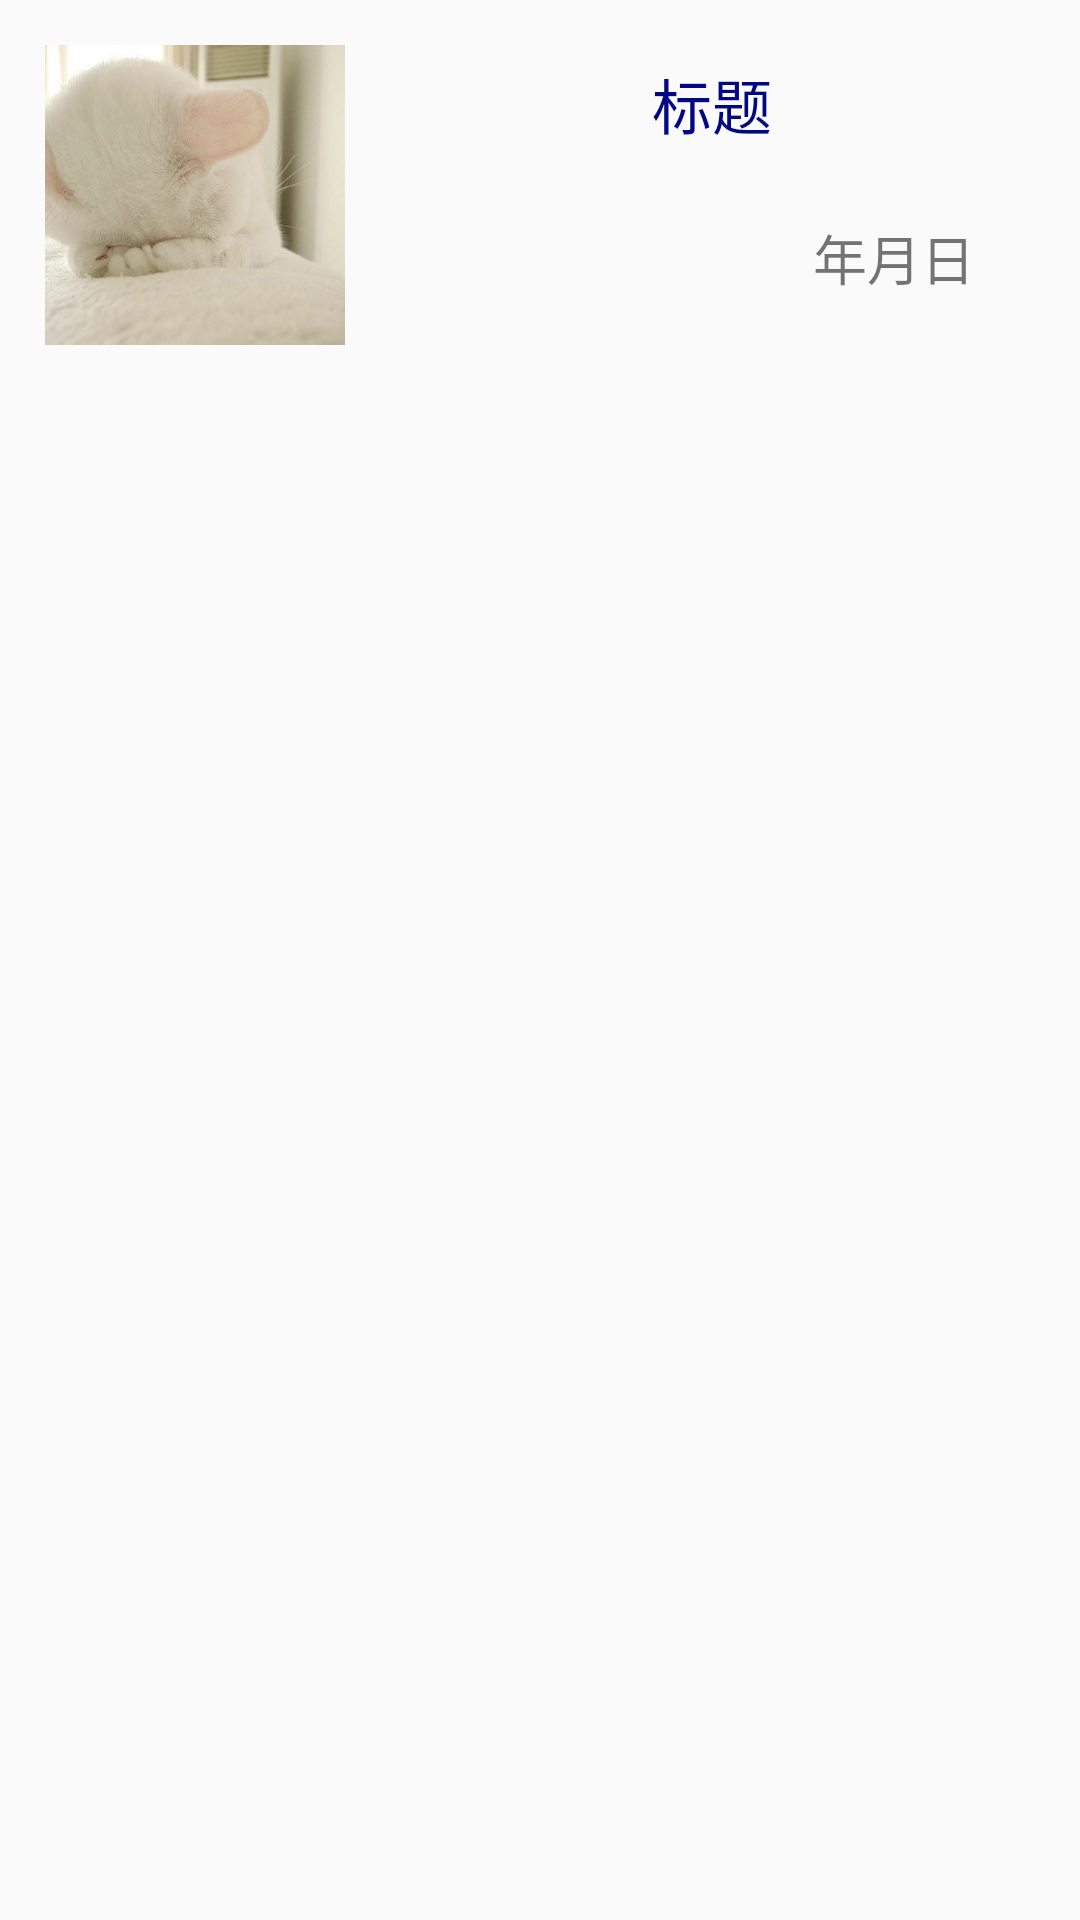

Locate icon controls on the screen. Image size 1080 × 1920, boxes as (x1, y1, x2, y2).
cat: (45, 45, 345, 345)
